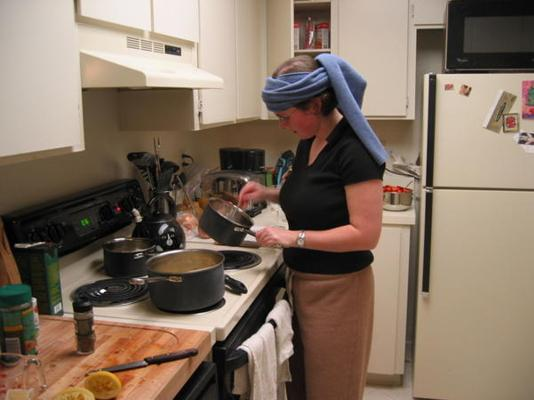person: (238, 59, 389, 400)
